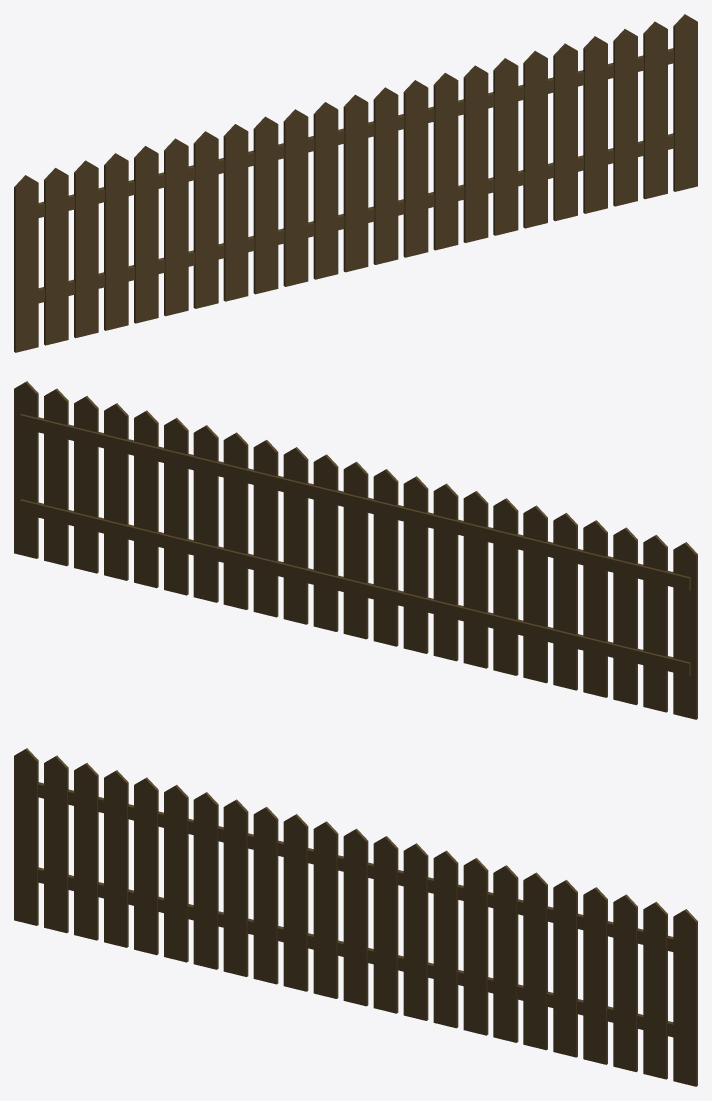
File: Wood_Fence_2.fbx
3 renders of one model, top to bottom at view 1: azimuth 30°, elevation 25°; view 2: azimuth 150°, elevation 25°; view 3: azimuth 330°, elevation 25°, orthographic.
Parts seen in each view (by area): view 1: Fence, Cube.004; view 2: Fence, Cube.004; view 3: Fence, Cube.004.
Part boxes in pixels (box(x1,y1,x2,y2)): Fence: box(14, 14, 697, 352); Cube.004: box(38, 48, 674, 303); Fence: box(14, 381, 697, 719); Cube.004: box(19, 414, 690, 676); Fence: box(14, 748, 697, 1086); Cube.004: box(37, 782, 673, 1037).
Bounding box in the file's own units: 715 × 174 × 5.75.
